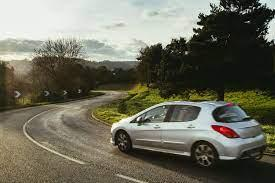car: (103, 93, 275, 183)
